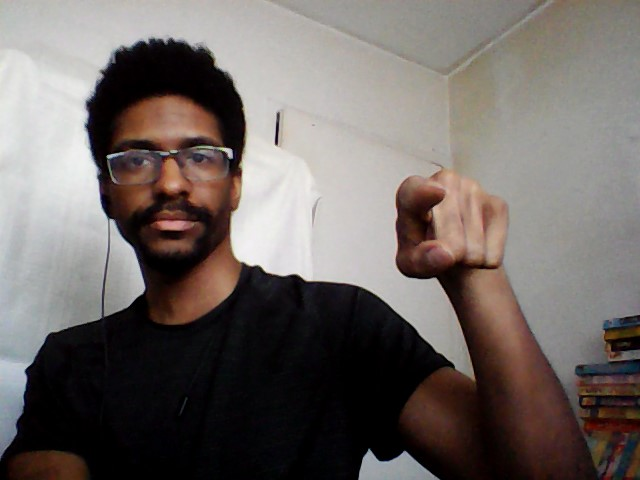z: (391, 164, 515, 283)
